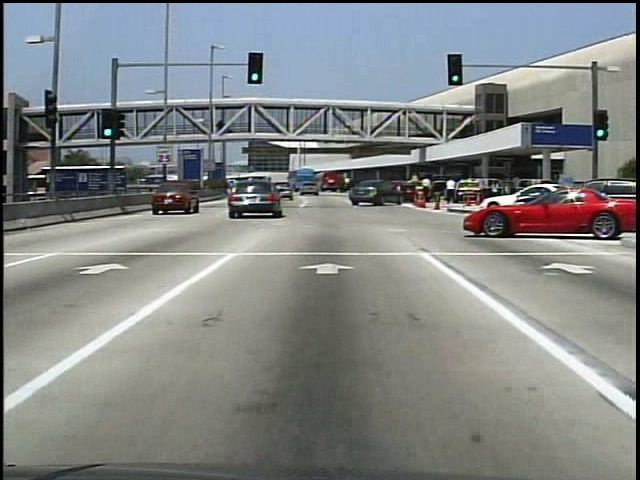person: (418, 173, 435, 208), (488, 179, 503, 214), (445, 176, 461, 204), (218, 120, 227, 137)
